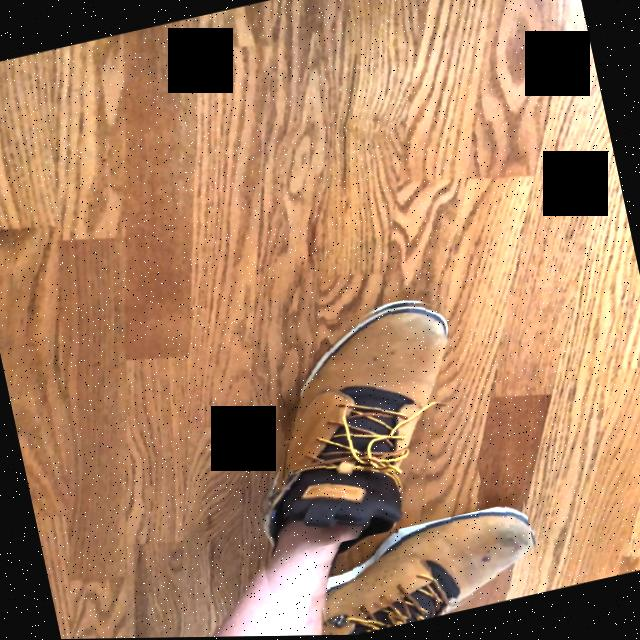shoe: (263, 306, 448, 582), (326, 509, 533, 636)
